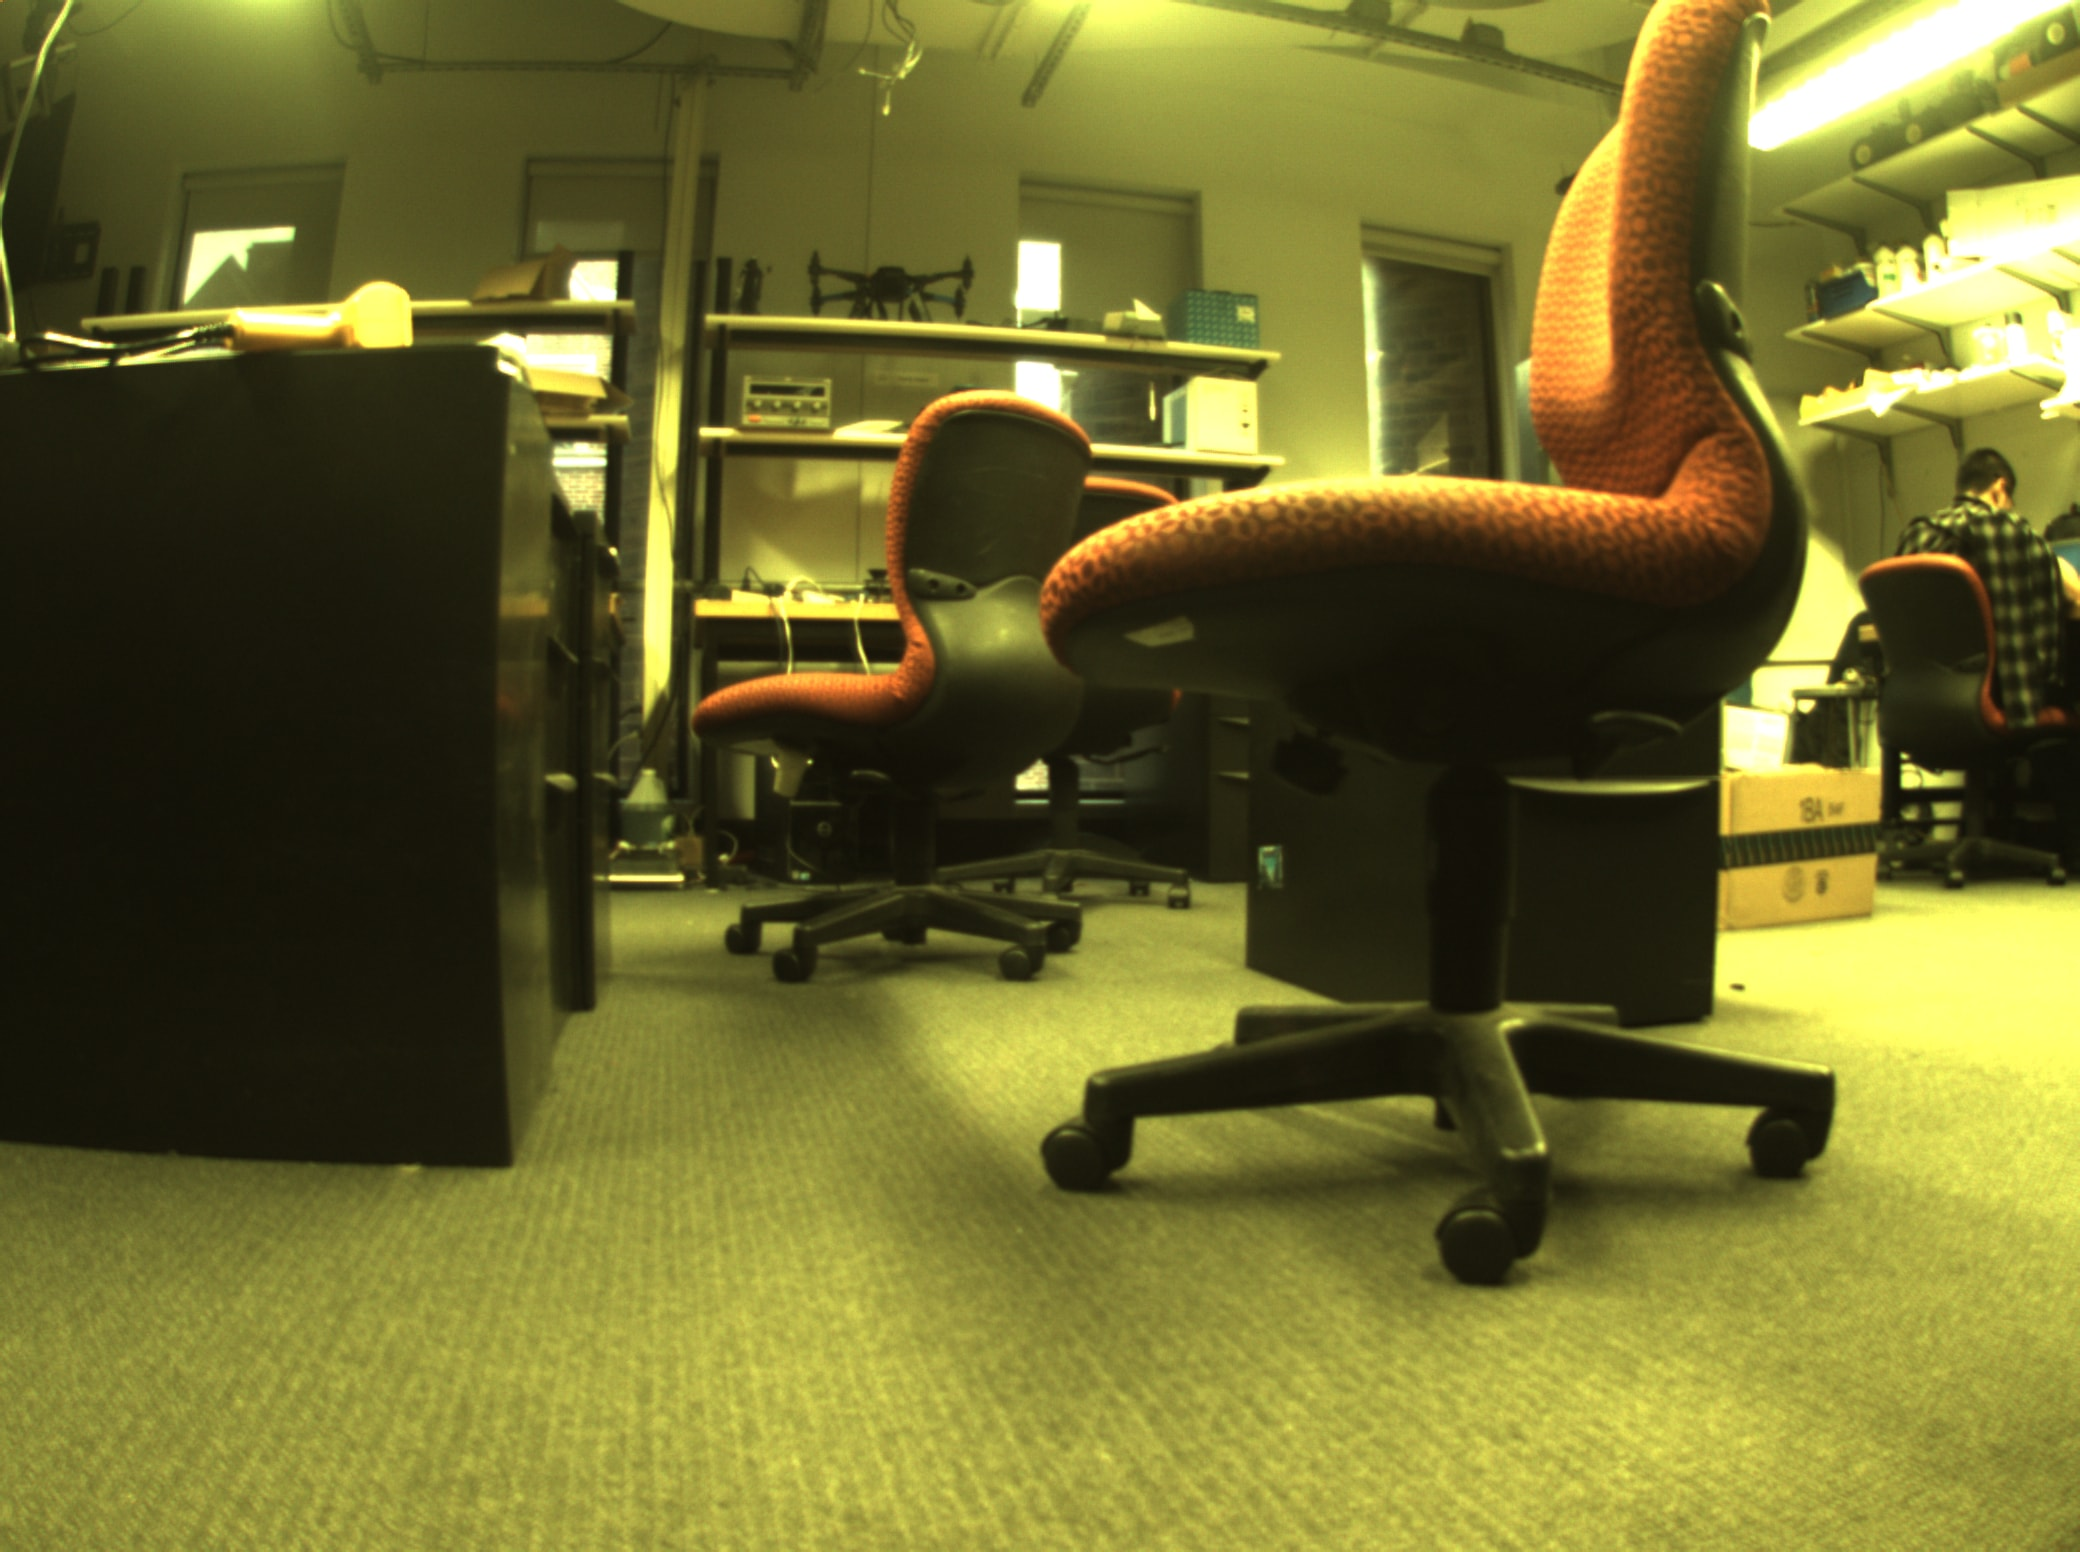chair: (986, 3, 1886, 1285), (693, 381, 1108, 1004), (958, 458, 1193, 928), (1840, 548, 2080, 910)
